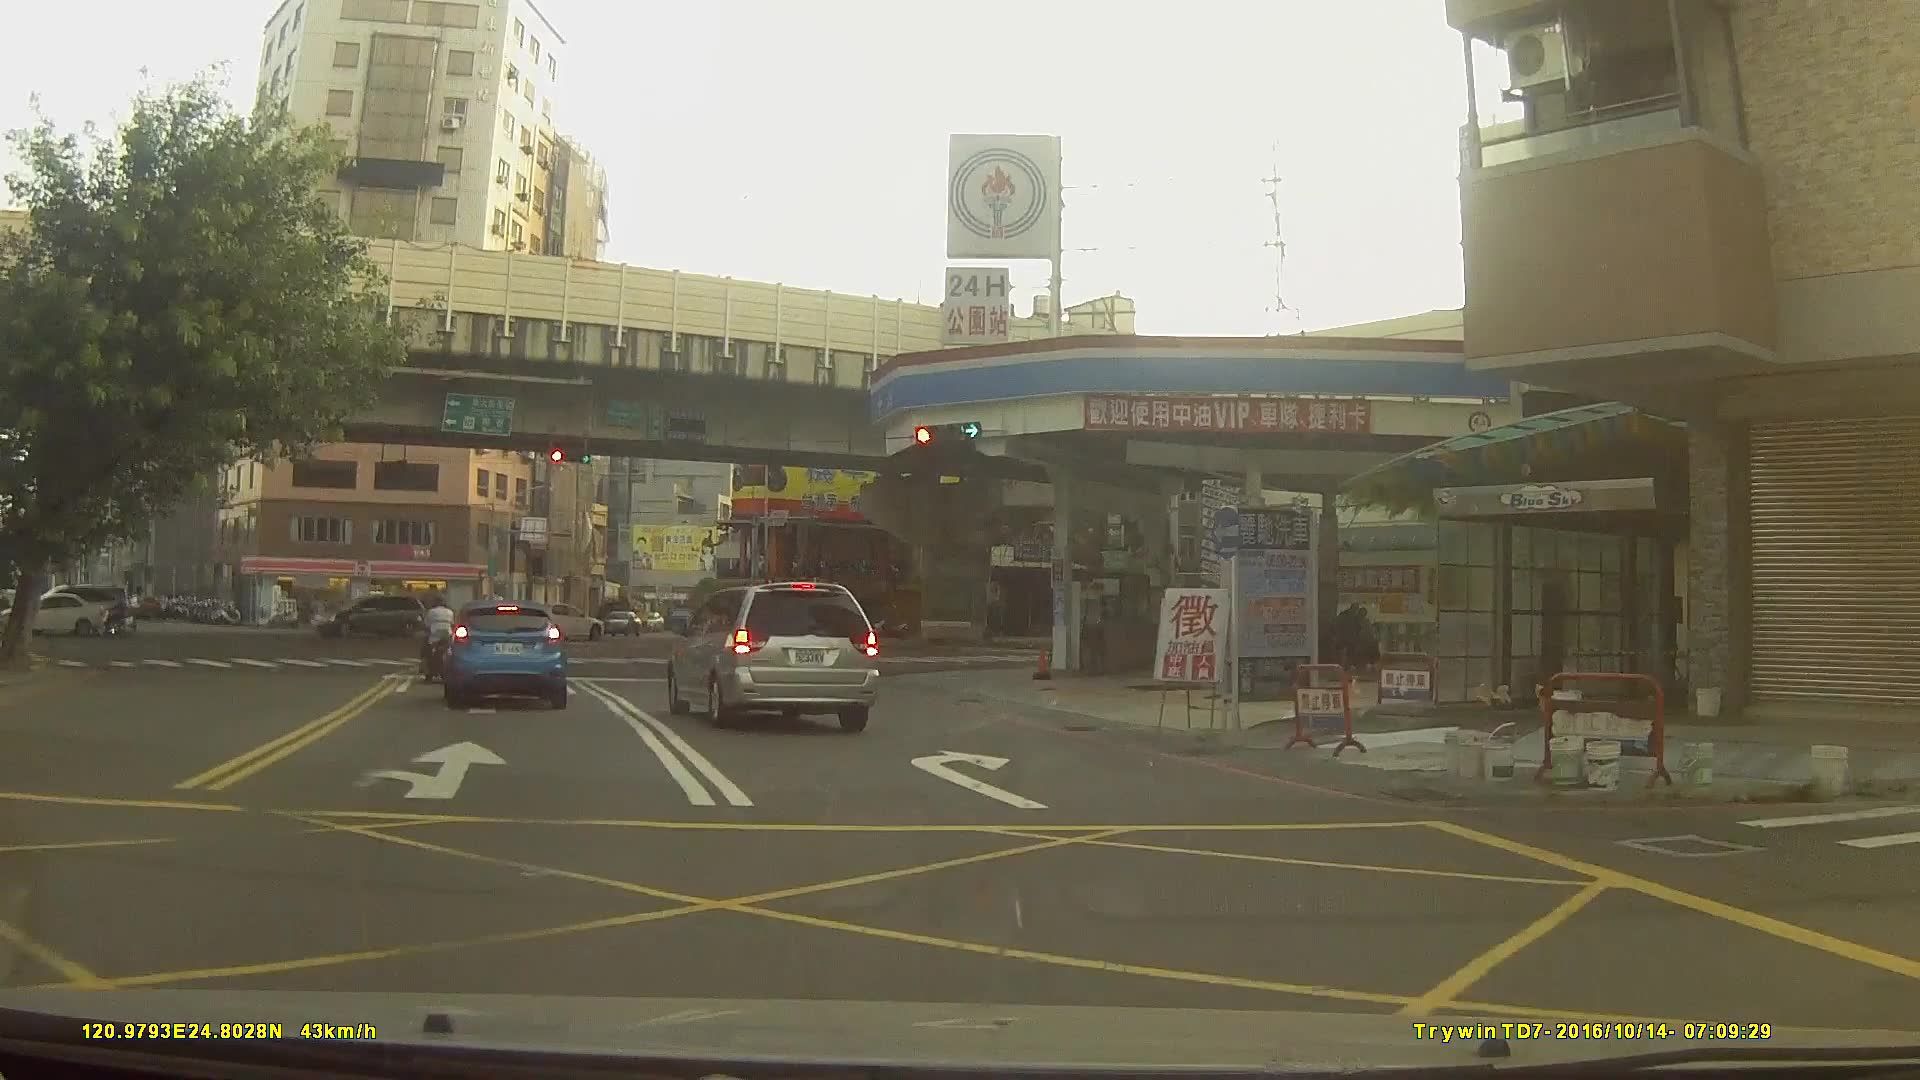rider: (423, 597, 463, 680), (100, 608, 125, 637)
vehicle: (668, 577, 879, 731), (438, 597, 567, 712), (313, 594, 427, 643), (5, 592, 104, 639), (521, 601, 604, 643)
